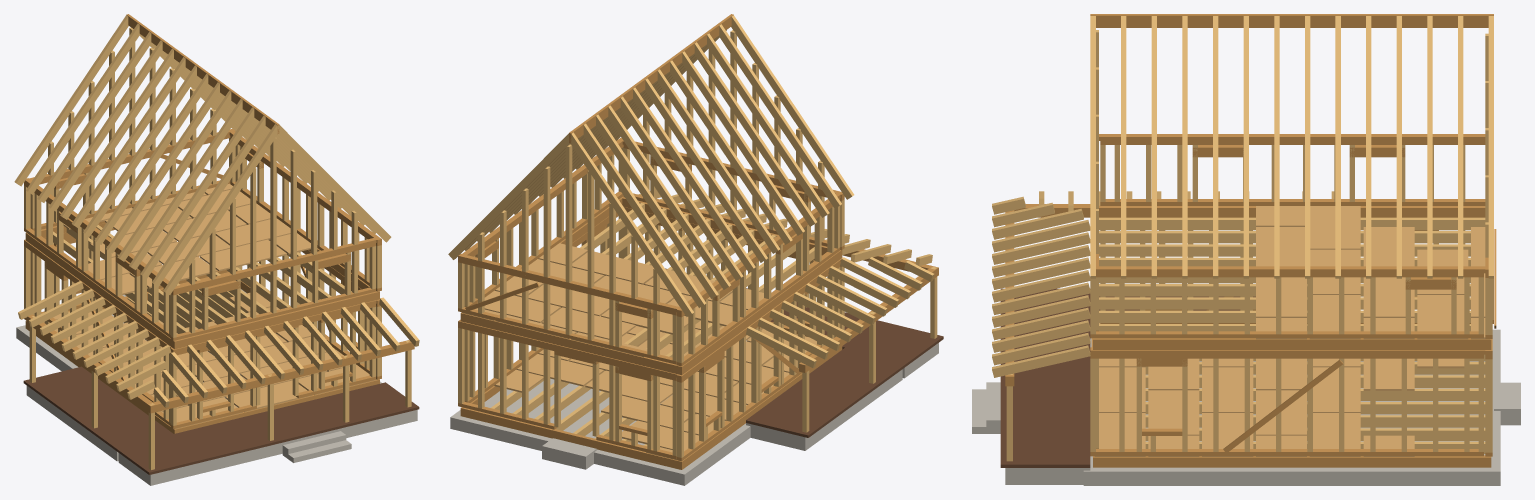
The model's file is base-07-framing.glb.
The picture shows the model from 3 angles, left to right: view 1: azimuth 30°, elevation 25°; view 2: azimuth 150°, elevation 25°; view 3: azimuth 270°, elevation 25°; orthographic projection. The views are drawn at different scales.
Visible parts, largest first — view 1: base_house_7_framing; view 2: base_house_7_framing; view 3: base_house_7_framing.
Part boxes in pixels (x1=…): base_house_7_framing: x1=14, y1=14, x2=419, y2=485; base_house_7_framing: x1=448, y1=14, x2=943, y2=485; base_house_7_framing: x1=972, y1=14, x2=1520, y2=485.
Size of the model in its own units: 9.7 by 9.85 by 12.24.
